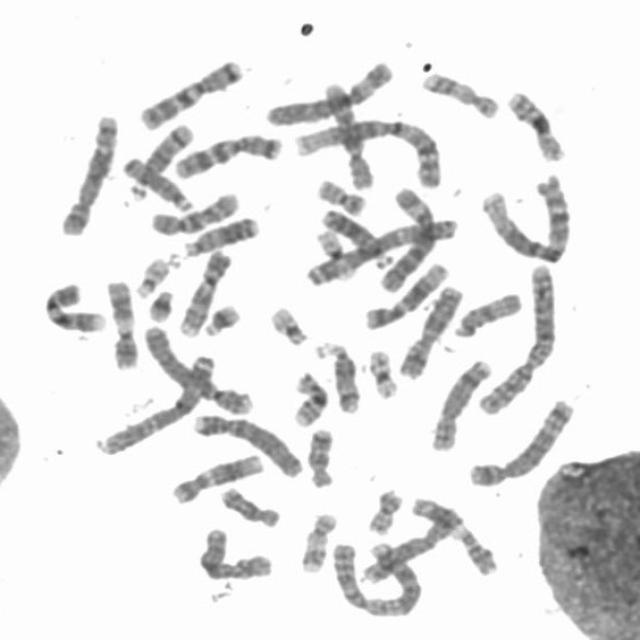A1: (293, 118, 446, 190), (479, 172, 574, 266)
A2: (477, 264, 558, 416), (329, 539, 422, 619)
A3: (101, 354, 217, 457), (306, 217, 458, 289)
B4: (143, 325, 256, 418), (192, 412, 304, 479)
B5: (466, 396, 576, 488), (59, 115, 119, 239)
C10: (323, 82, 377, 190), (148, 191, 240, 238)
C11: (408, 496, 501, 579), (105, 278, 138, 372)
C12: (363, 262, 449, 332), (170, 454, 264, 504)
C6: (263, 60, 395, 128), (380, 186, 438, 293)
C7: (137, 59, 244, 132), (173, 132, 284, 180)
C8: (361, 507, 464, 588), (430, 358, 491, 454)
C9: (176, 250, 231, 340), (43, 280, 107, 334)
D13: (320, 207, 395, 270), (180, 217, 261, 259)
D14: (130, 121, 196, 203), (314, 342, 362, 414)
D15: (121, 156, 196, 212), (453, 292, 523, 338)
E16: (504, 90, 566, 165), (292, 372, 330, 428)
E17: (421, 72, 502, 121), (301, 512, 337, 573)
E18: (220, 486, 282, 528), (303, 428, 336, 489)
F19: (316, 228, 356, 284), (368, 350, 400, 402)
F20: (315, 177, 369, 218), (366, 488, 404, 536)
G21: (202, 304, 242, 338), (146, 290, 174, 324)
G22: (269, 306, 312, 349), (134, 255, 170, 300)
X: (396, 283, 464, 382), (196, 526, 276, 582)
